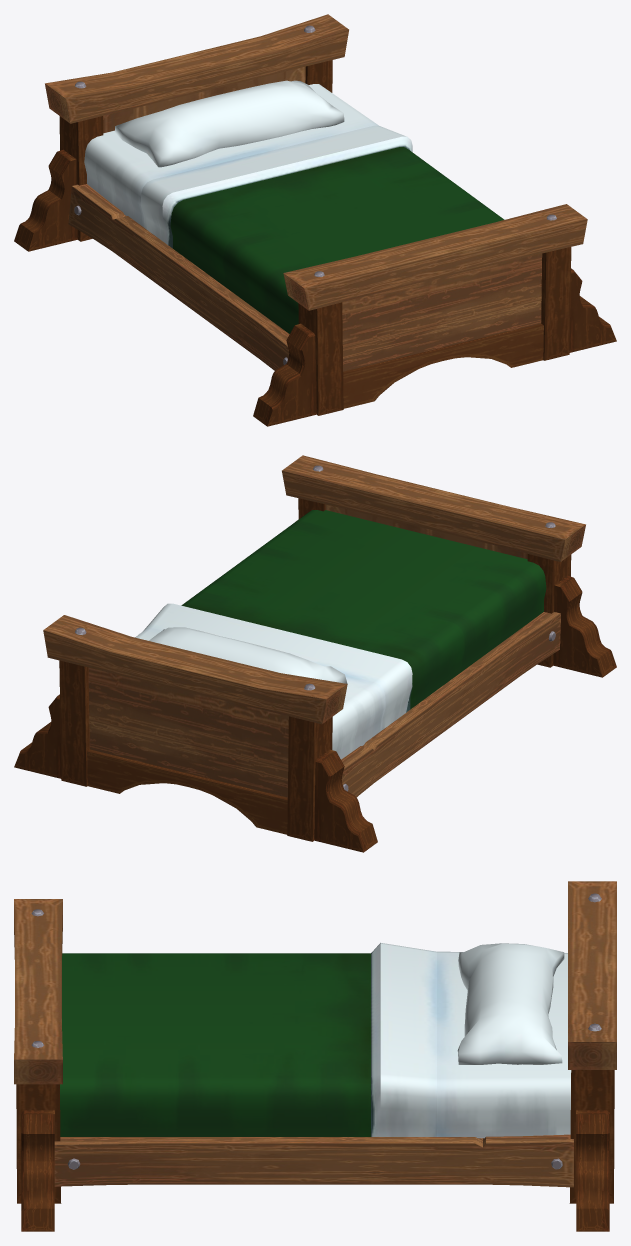
Rendered from Bed_Twin2.gltf.
The picture shows the model from 3 angles, top to bottom: view 1: azimuth 30°, elevation 25°; view 2: azimuth 150°, elevation 25°; view 3: azimuth 270°, elevation 25°; orthographic projection. The views are drawn at different scales.
Parts seen in each view (by area): view 1: Bed_Twin2; view 2: Bed_Twin2; view 3: Bed_Twin2.
Boxes of the visible parts, left/top/right/bottom form: Bed_Twin2: left=14, top=14, right=616, bottom=426; Bed_Twin2: left=14, top=455, right=616, bottom=852; Bed_Twin2: left=14, top=881, right=616, bottom=1231.
Size of the model in its own units: 1.88 by 0.7596 by 2.41.
Materials: 3 (3 with a texture image).
